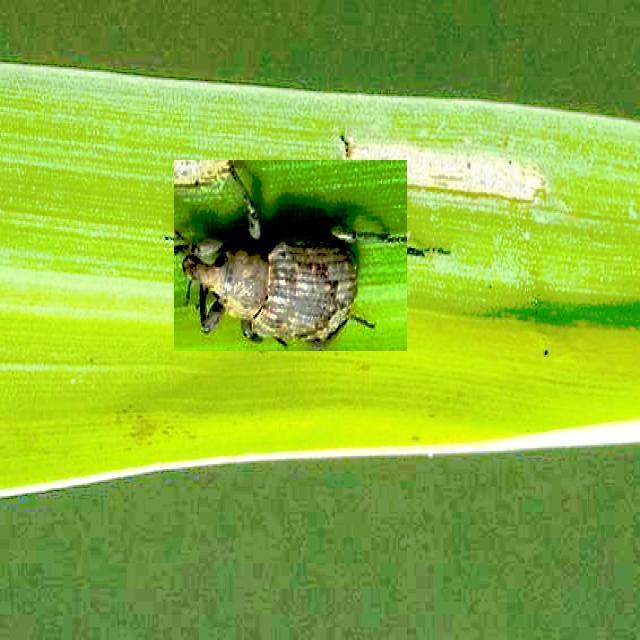rice-bug: (174, 160, 407, 351)
